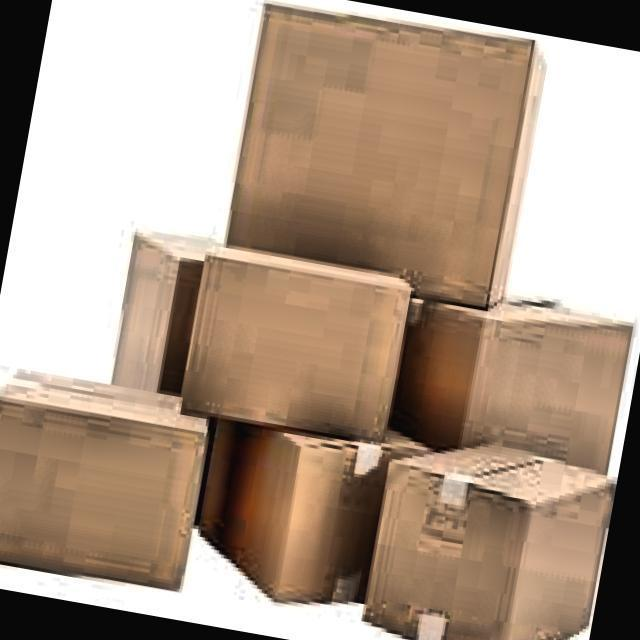cardboard: (218, 0, 554, 311), (356, 420, 620, 640), (388, 274, 638, 476), (0, 361, 217, 593), (178, 240, 418, 448), (108, 222, 222, 396)
